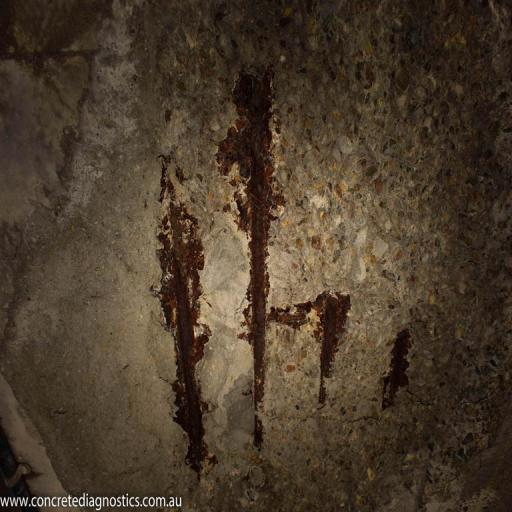spalling: (147, 58, 429, 487)
